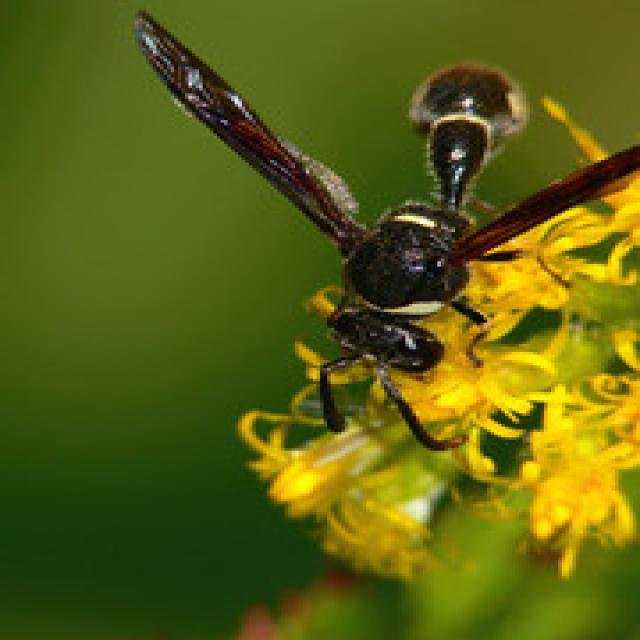Guepe: (118, 6, 636, 453)
